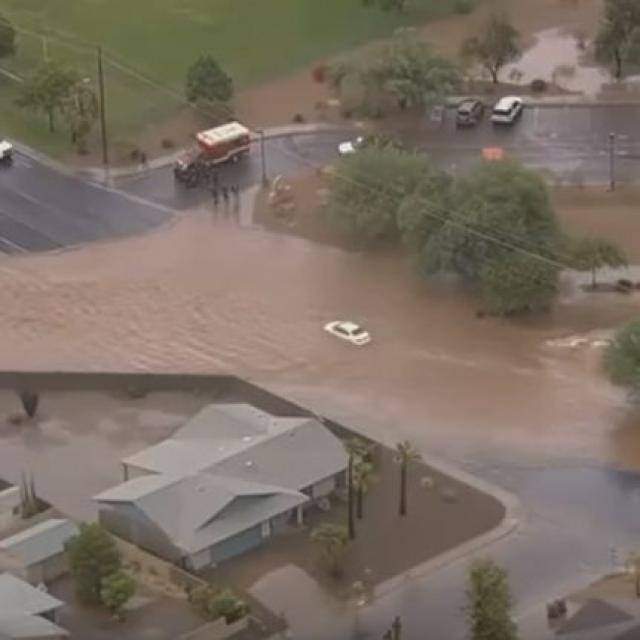flooded_areas: (0, 198, 639, 456)
